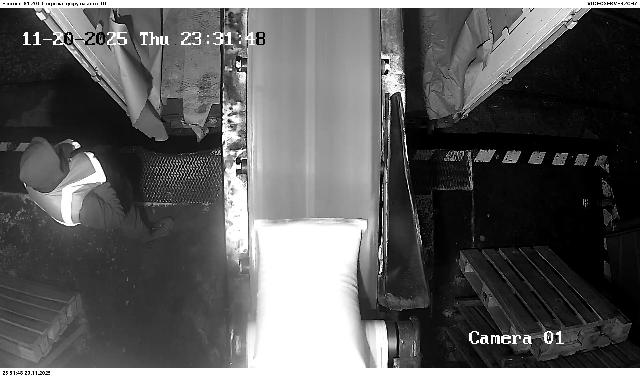bag: (253, 218, 369, 368)
